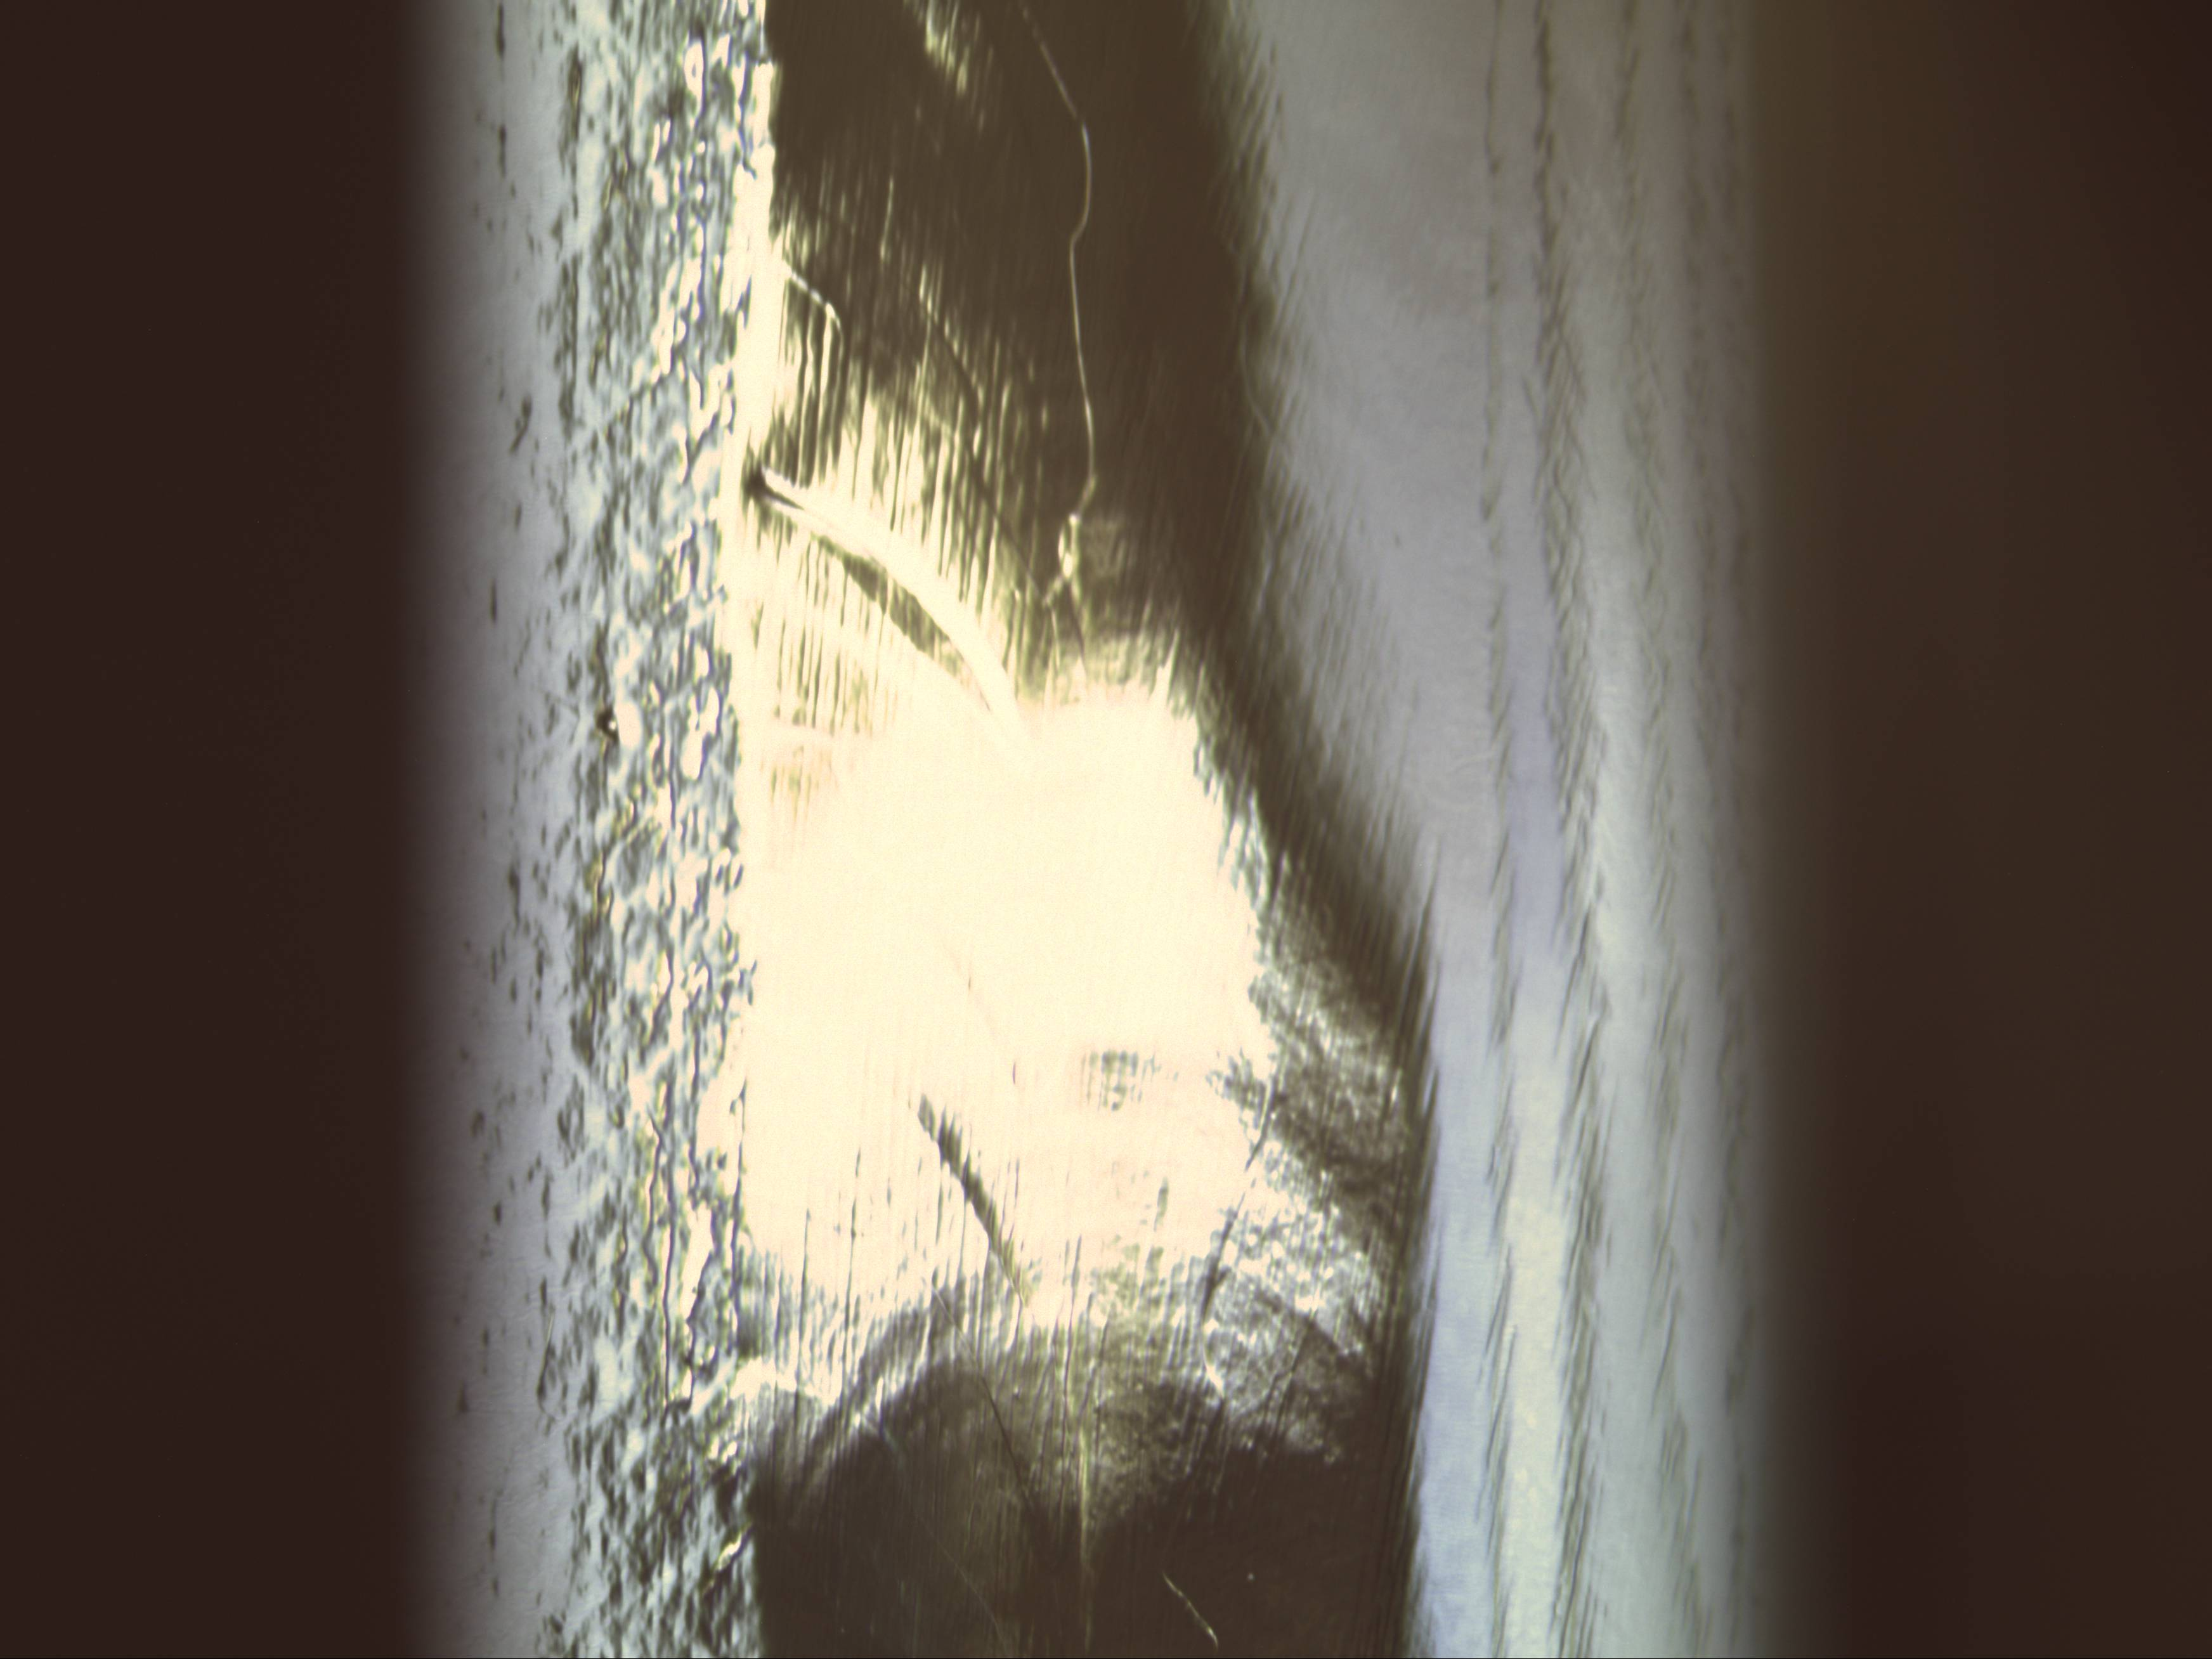defect: (589, 701, 631, 744)
